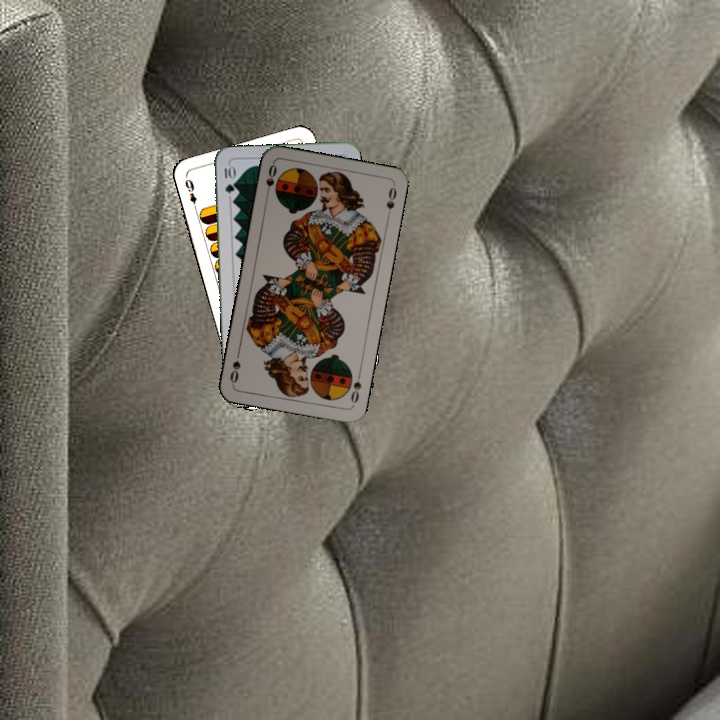E9: (181, 175, 200, 213)
G10: (220, 162, 236, 196)
SO: (346, 368, 364, 408), (262, 160, 279, 200)
